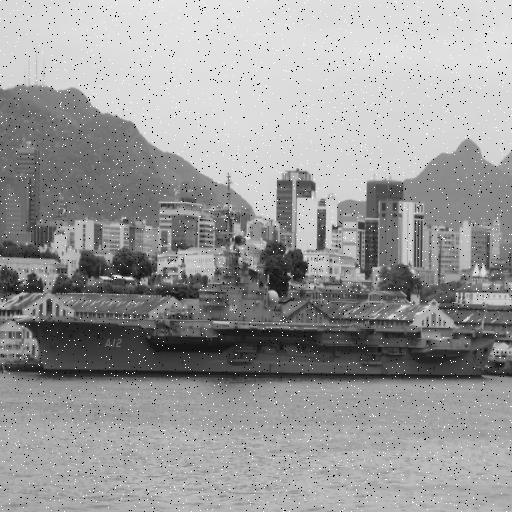Portanaves: (8, 175, 502, 385)
